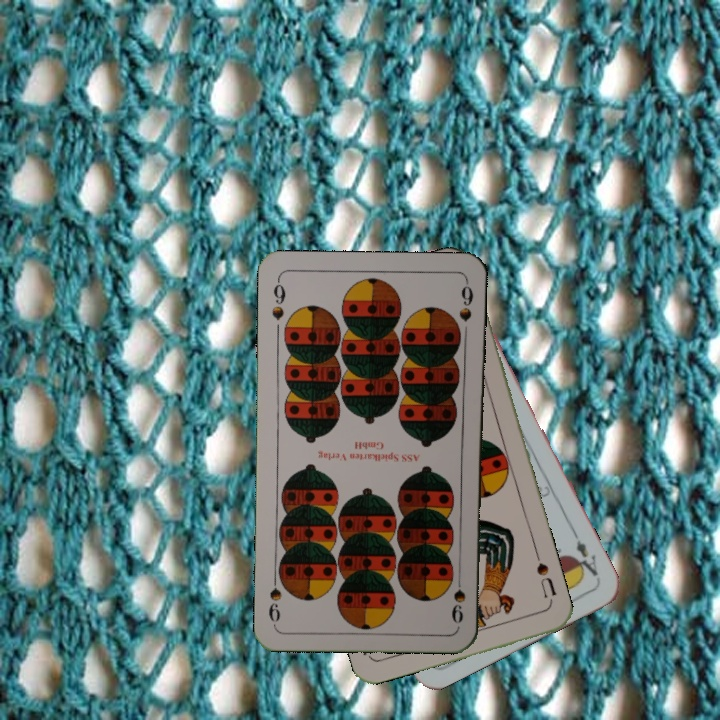EA: (569, 527, 601, 581)
S9: (448, 568, 468, 626), (267, 276, 289, 323)
SU: (532, 558, 559, 607)
